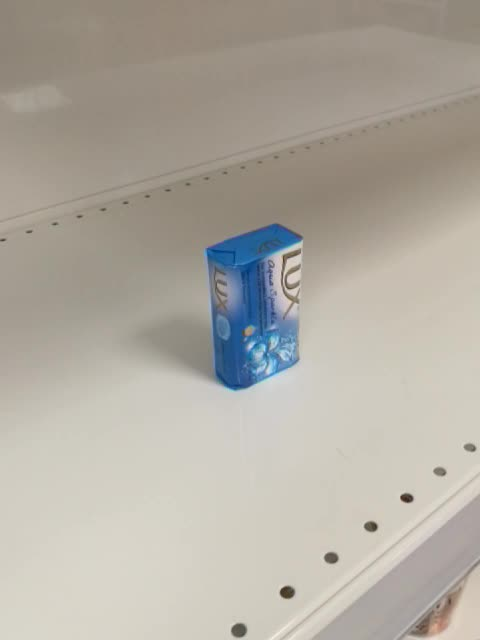soap: (201, 221, 304, 393)
